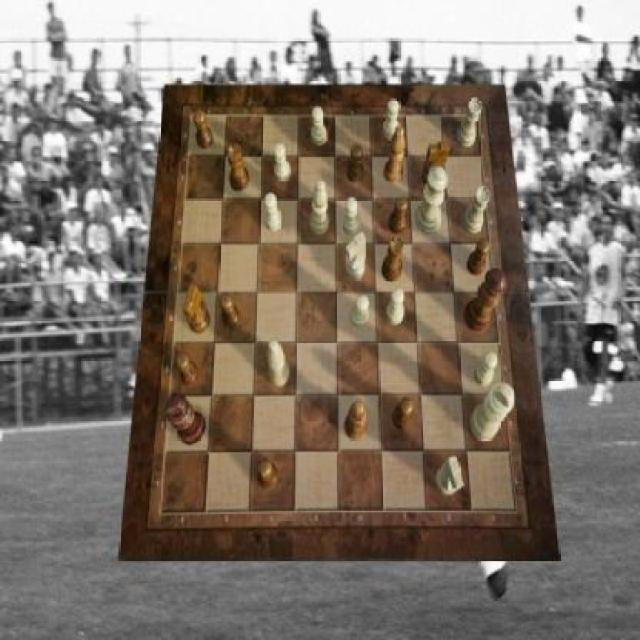bishop: (385, 126, 407, 185), (344, 400, 368, 442)
black-bishop: (166, 396, 206, 446)
black-king: (183, 284, 211, 334), (423, 142, 451, 189)
black-knight: (177, 352, 200, 387), (194, 111, 214, 151), (468, 240, 490, 276), (388, 197, 408, 235), (220, 294, 241, 330), (258, 460, 280, 491), (394, 397, 414, 431), (348, 145, 364, 183)
black-pawn: (464, 269, 508, 333)
black-queen: (228, 145, 250, 192), (382, 236, 404, 282)
black-rook: (309, 180, 329, 236), (268, 340, 290, 388)
white-bishop: (471, 383, 515, 443)
white-king: (437, 457, 465, 497), (346, 232, 366, 280)
white-knight: (264, 194, 284, 232), (476, 351, 498, 385), (386, 290, 406, 326), (383, 100, 400, 142), (274, 143, 291, 182), (349, 296, 368, 330), (343, 197, 360, 235), (311, 106, 327, 146)
white-pawn: (416, 166, 448, 234)
white-queen: (463, 186, 490, 234), (457, 97, 481, 148)
